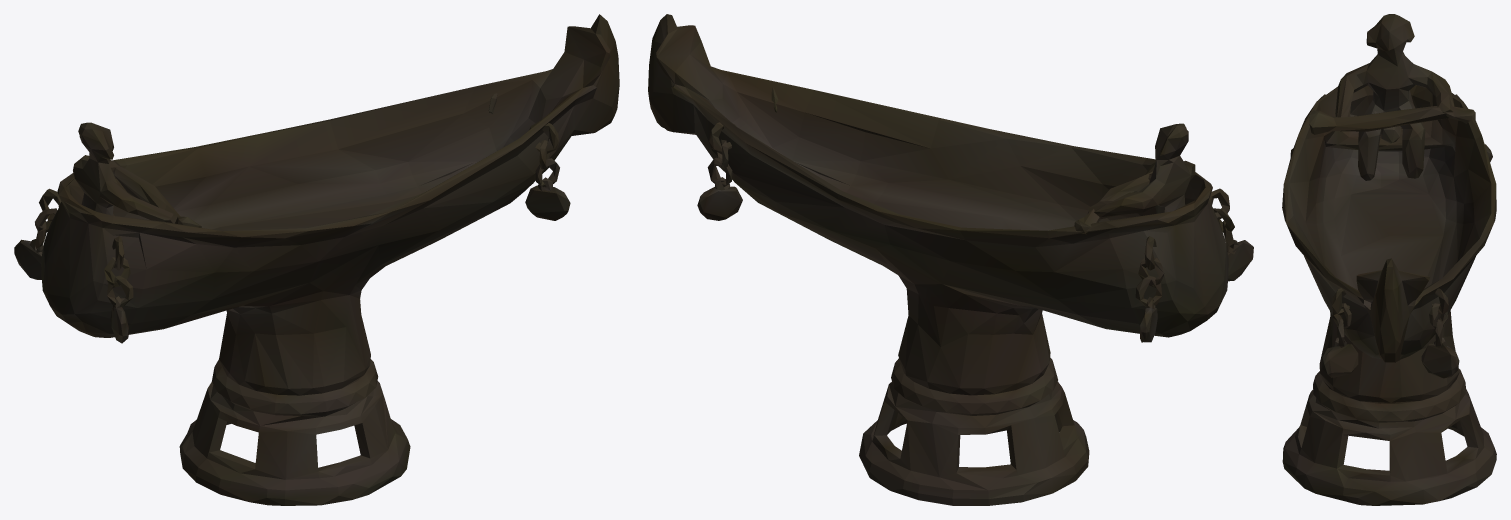
The model's file is small_boat_shaped_pottery_34027070.glb.
3 renders of one model, left to right at view 1: azimuth 30°, elevation 25°; view 2: azimuth 150°, elevation 25°; view 3: azimuth 270°, elevation 25°, orthographic. The views are drawn at different scales.
Parts seen in each view (by area): view 1: SM_24AR0002_Low_24AR0002_0; view 2: SM_24AR0002_Low_24AR0002_0; view 3: SM_24AR0002_Low_24AR0002_0.
Part boxes in pixels (left/top/right/bottom): SM_24AR0002_Low_24AR0002_0: left=14, top=14, right=619, bottom=505; SM_24AR0002_Low_24AR0002_0: left=648, top=14, right=1253, bottom=505; SM_24AR0002_Low_24AR0002_0: left=1282, top=14, right=1496, bottom=505.
Bounding box in the file's own units: 0.2302 × 0.151 × 0.0824.
